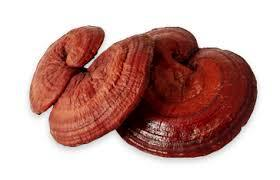Ganoderma - Fruit Body: (30, 23, 260, 159)
